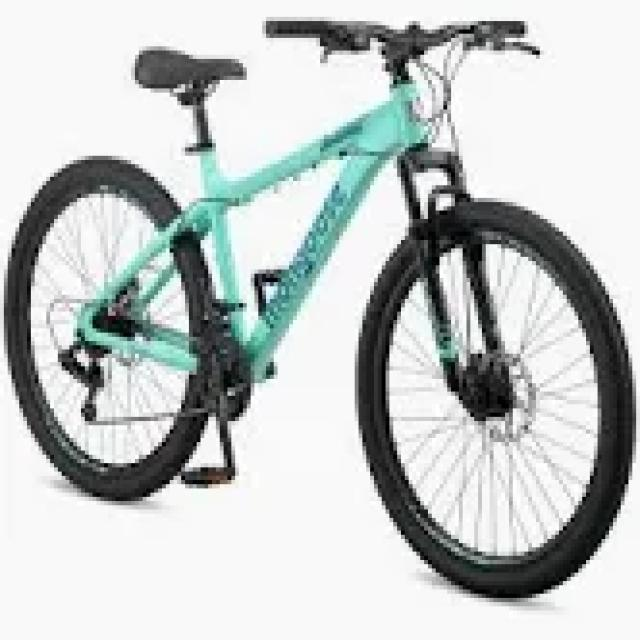bike: (0, 12, 636, 598)
